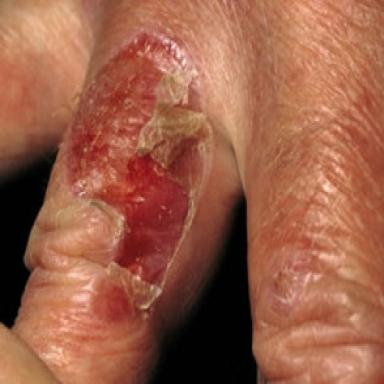Epidermolysis-Bullosa-Pruriginosa: (64, 29, 213, 320)
